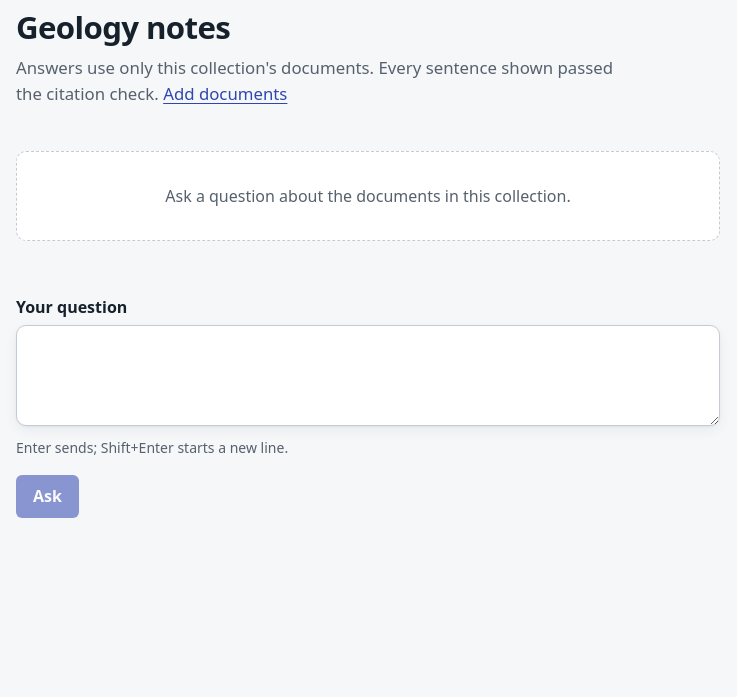
Test: the chat page shows a stopped notice on a stopped event
This screenshot has width=737, height=697.
Type "What is attention?" into the text box labelled "Your question" at (368, 376), box [16,325,720,426]
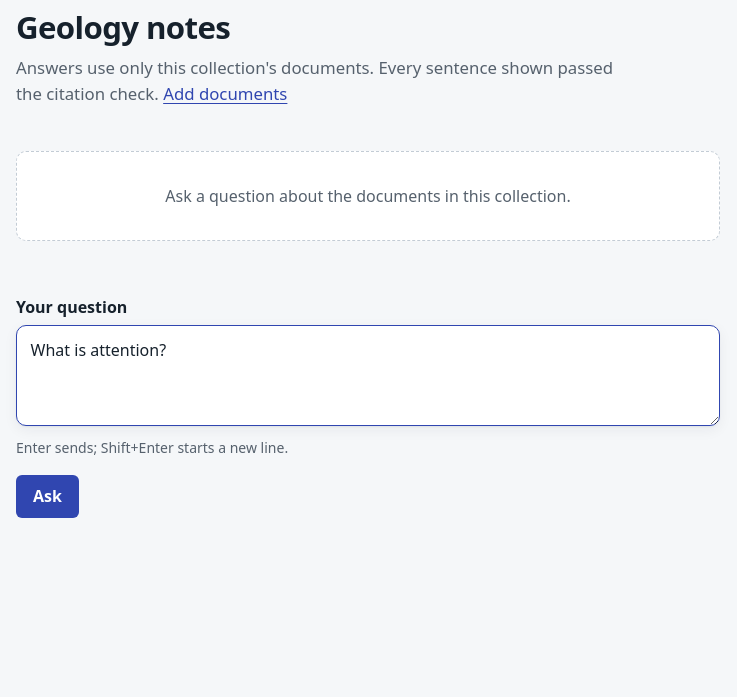
Press Enter
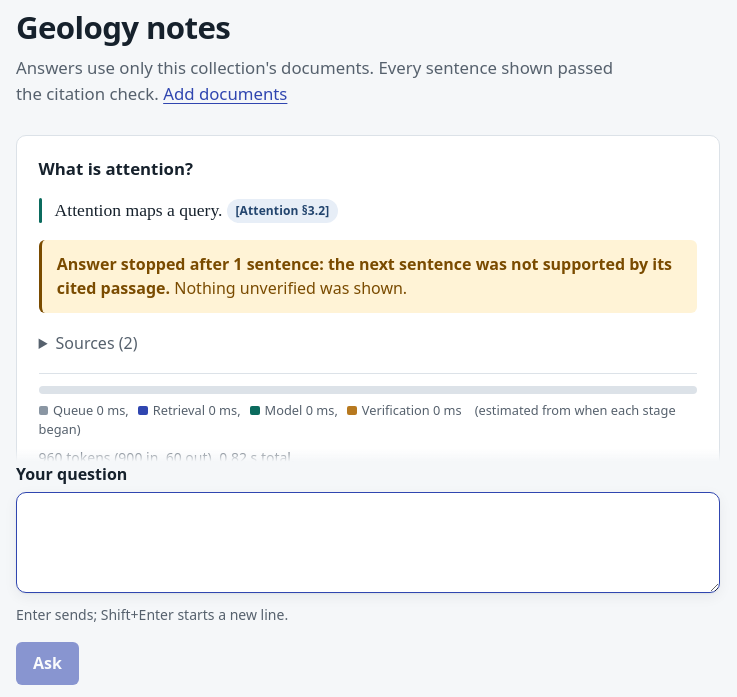
Now the text "Answer stopped after 1 sentence" shows "not supported by its cited passage", box [57,253,672,299]
